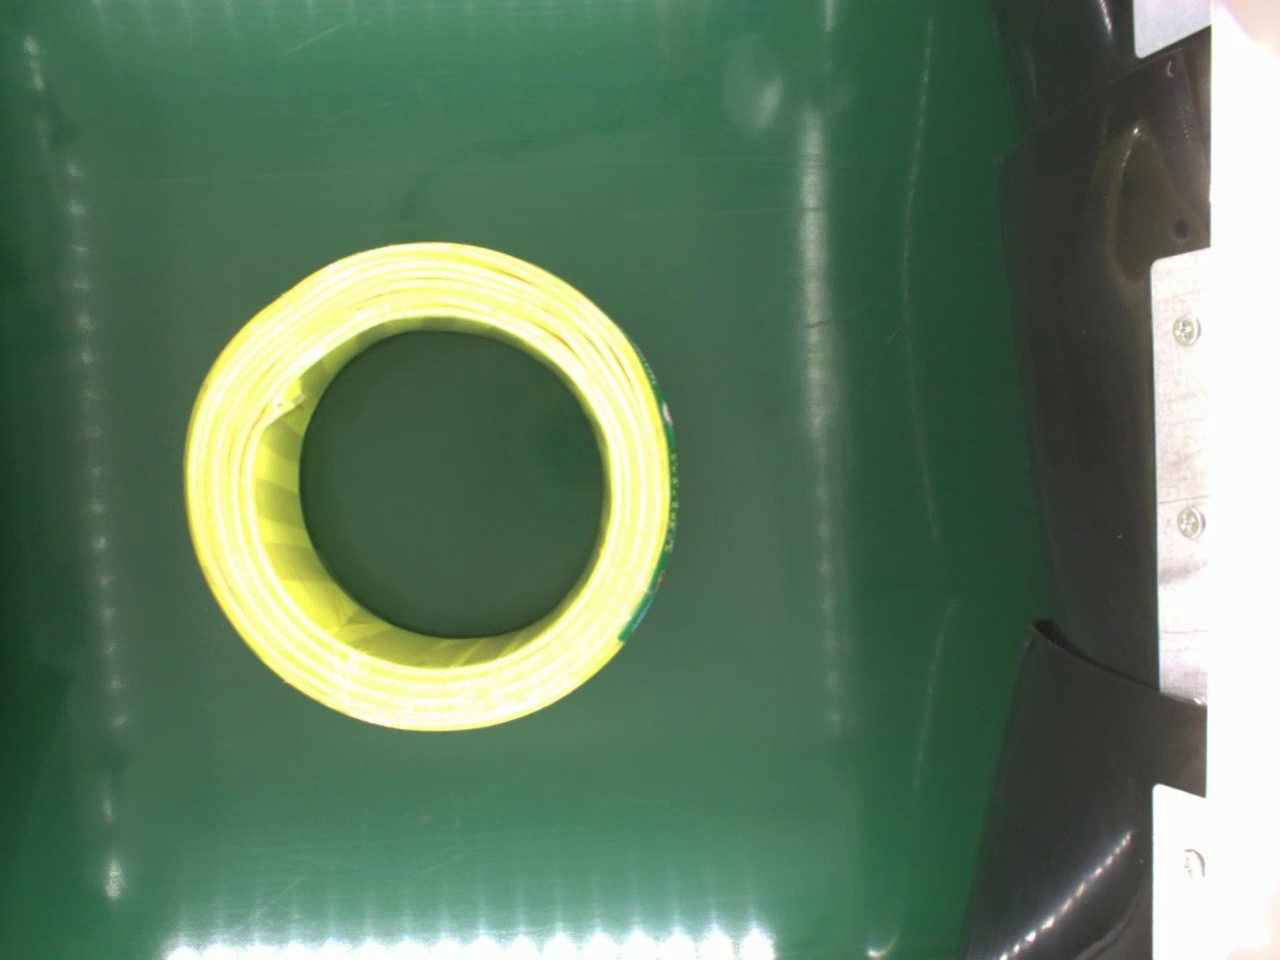yellow: (176, 232, 681, 731)
